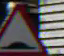Speed Breaker ahead: (1, 3, 51, 55)
